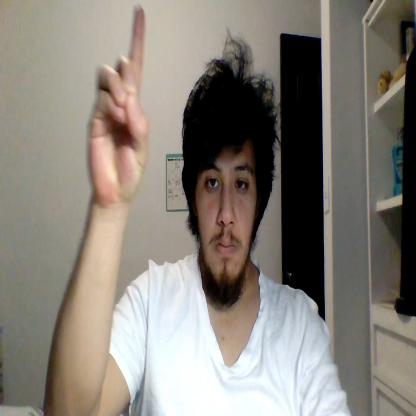D: (86, 5, 148, 207)
